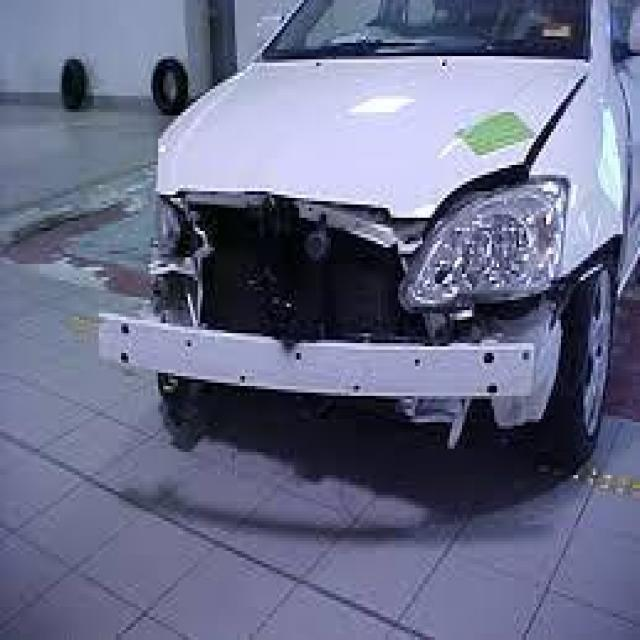damaged: (138, 192, 566, 426), (457, 70, 588, 192)
